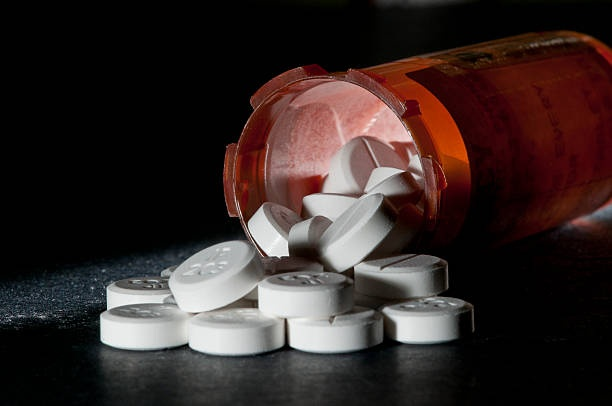pills: (176, 237, 260, 306), (354, 254, 452, 296), (292, 312, 377, 349), (384, 306, 469, 343), (195, 313, 280, 350), (101, 305, 186, 342)
